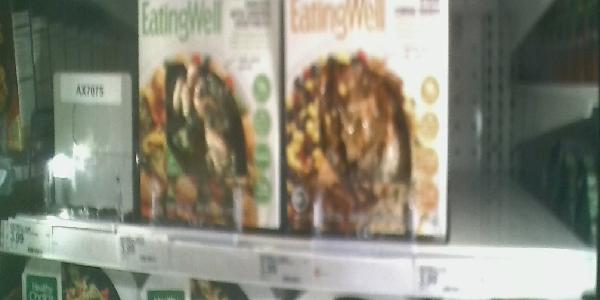pizza1: (283, 1, 452, 247), (135, 1, 284, 238)
